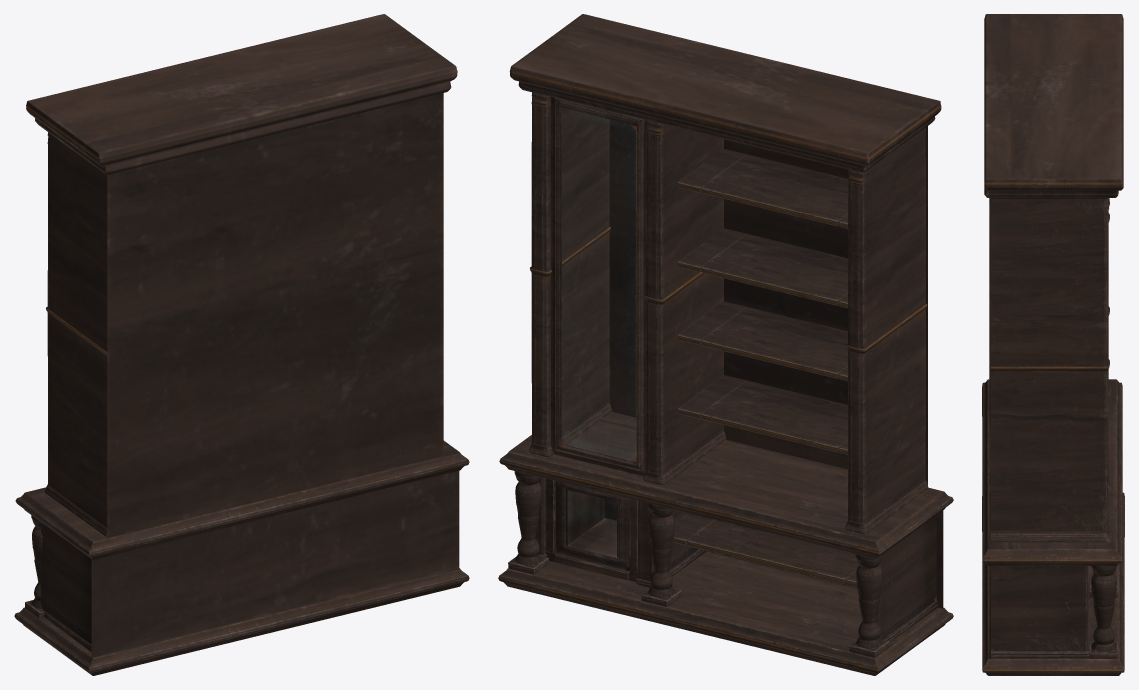
The picture shows the model from 3 angles, left to right: view 1: azimuth 30°, elevation 25°; view 2: azimuth 150°, elevation 25°; view 3: azimuth 270°, elevation 25°; orthographic projection. The views are drawn at different scales.
Visible parts, largest first — view 1: Drawer1; view 2: Drawer1 (×2); view 3: Drawer1.
Boxes of the visible parts, bbox=[...] form: Drawer1: bbox=[14, 14, 469, 675]; Drawer1 (×2): bbox=[498, 14, 953, 675]; Drawer1: bbox=[982, 14, 1124, 675].
Bounding box in the file's own units: 1.53 × 2 × 0.5225.
Materials: 2 (2 with a texture image).
